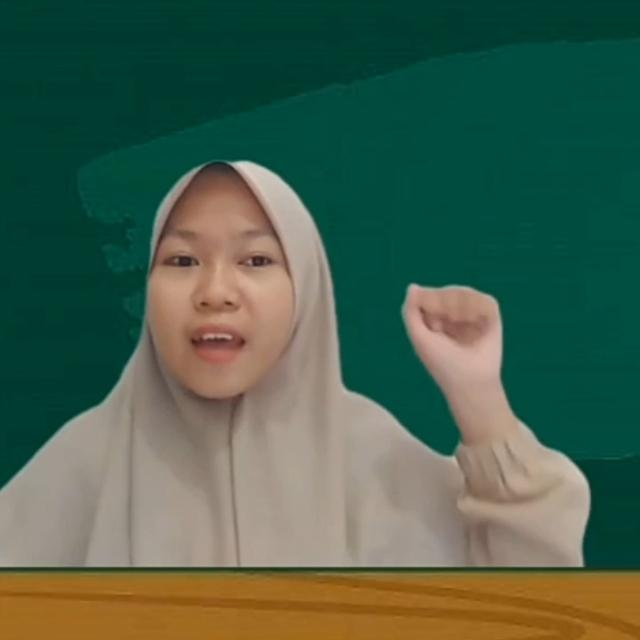A: (398, 278, 522, 402)
